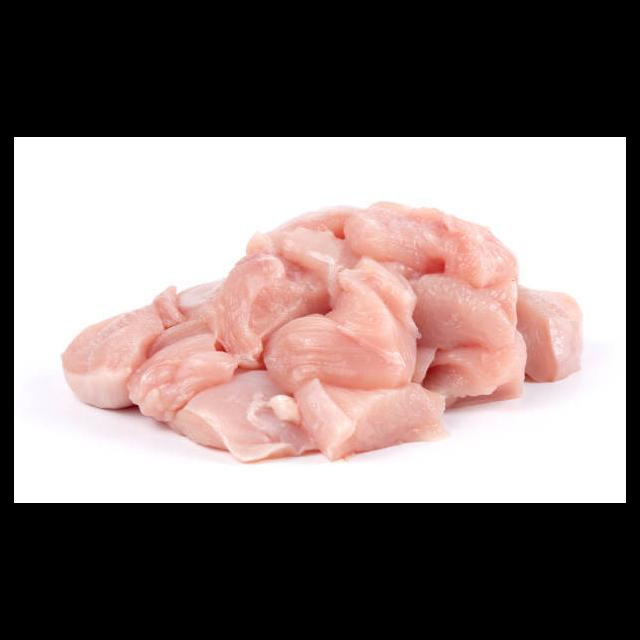chicken: (62, 199, 585, 464)
